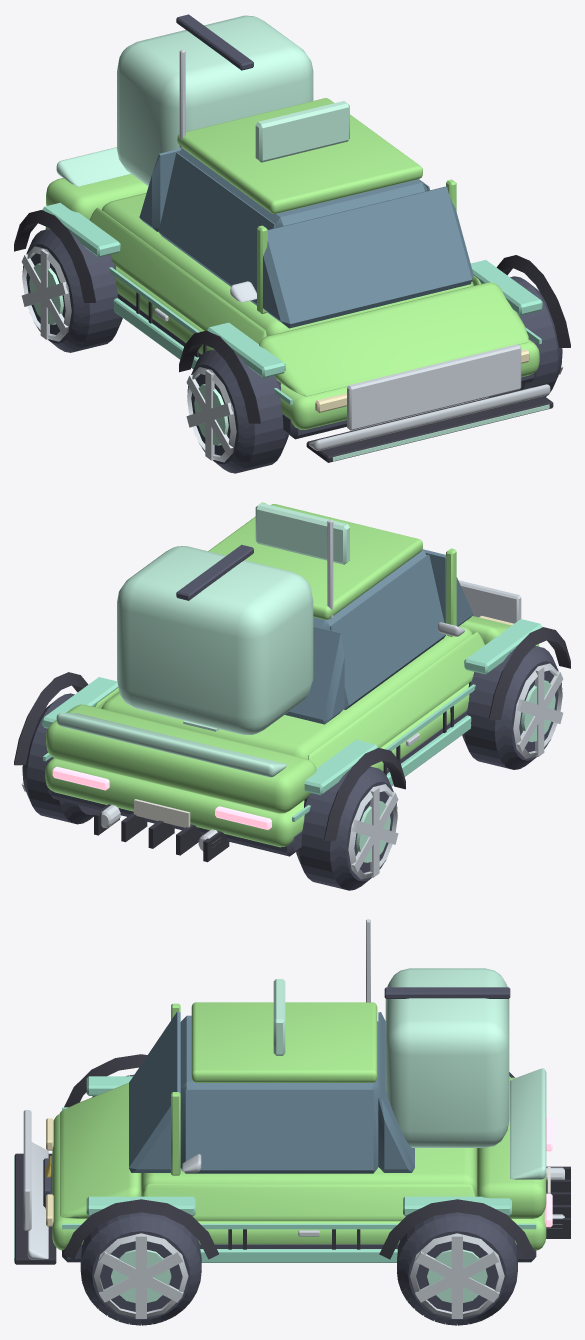
Rendered from old_town_trolley.fbx.
3 renders of one model, top to bottom at view 1: azimuth 30°, elevation 25°; view 2: azimuth 150°, elevation 25°; view 3: azimuth 270°, elevation 25°, orthographic. The views are drawn at different scales.
Parts seen in each view (by area): view 1: Body, Glass, Accent3, Metal, Trim, Accent, Wheel_FR, Wheel_RR, Light, Accent2, Trim2, Wheel_FL (+1 smaller); view 2: Body, Accent3, Glass, Trim, Metal, Accent, Wheel_RR, Wheel_FR, Light, Trim2, Wheel_RL, Light3 (+3 smaller); view 3: Body, Glass, Accent3, Metal, Trim, Accent, Wheel_FL, Wheel_RL, Trim2, Accent2, Metal2, Light (+2 smaller).
Boxes of the visible parts, x1=… form: Body: x1=45, y1=98, x2=539, y2=429; Glass: x1=139, y1=148, x2=473, y2=328; Accent3: x1=56, y1=15, x2=313, y2=186; Metal: x1=21, y1=246, x2=563, y2=462; Trim: x1=14, y1=210, x2=570, y2=462; Accent: x1=42, y1=202, x2=542, y2=404; Wheel_FR: x1=187, y1=349, x2=288, y2=473; Wheel_RR: x1=22, y1=228, x2=122, y2=352; Light: x1=255, y1=101, x2=549, y2=461; Accent2: x1=179, y1=49, x2=550, y2=450; Trim2: x1=117, y1=14, x2=536, y2=439; Wheel_FL: x1=489, y1=276, x2=562, y2=397; Body: x1=45, y1=502, x2=539, y2=847; Accent3: x1=56, y1=546, x2=313, y2=777; Glass: x1=285, y1=549, x2=473, y2=724; Trim: x1=14, y1=627, x2=570, y2=862; Metal: x1=21, y1=580, x2=563, y2=879; Accent: x1=42, y1=619, x2=542, y2=821; Wheel_RR: x1=296, y1=766, x2=397, y2=890; Wheel_FR: x1=462, y1=646, x2=562, y2=769; Light: x1=183, y1=503, x2=349, y2=731; Trim2: x1=48, y1=544, x2=467, y2=856; Wheel_RL: x1=22, y1=693, x2=99, y2=824; Light3: x1=52, y1=766, x2=271, y2=829; Body: x1=52, y1=1002, x2=546, y2=1250; Glass: x1=129, y1=1011, x2=414, y2=1173; Accent3: x1=180, y1=968, x2=546, y2=1179; Metal: x1=23, y1=1110, x2=564, y2=1318; Trim: x1=14, y1=1054, x2=570, y2=1264; Accent: x1=62, y1=1076, x2=536, y2=1262; Wheel_FL: x1=80, y1=1212, x2=201, y2=1325; Wheel_RL: x1=397, y1=1212, x2=517, y2=1325; Trim2: x1=43, y1=987, x2=536, y2=1262; Accent2: x1=27, y1=919, x2=370, y2=1259; Metal2: x1=111, y1=1249, x2=487, y2=1302; Light: x1=14, y1=979, x2=285, y2=1261.
Bounding box in the file's own units: 3.51 × 3.15 × 5.3.
